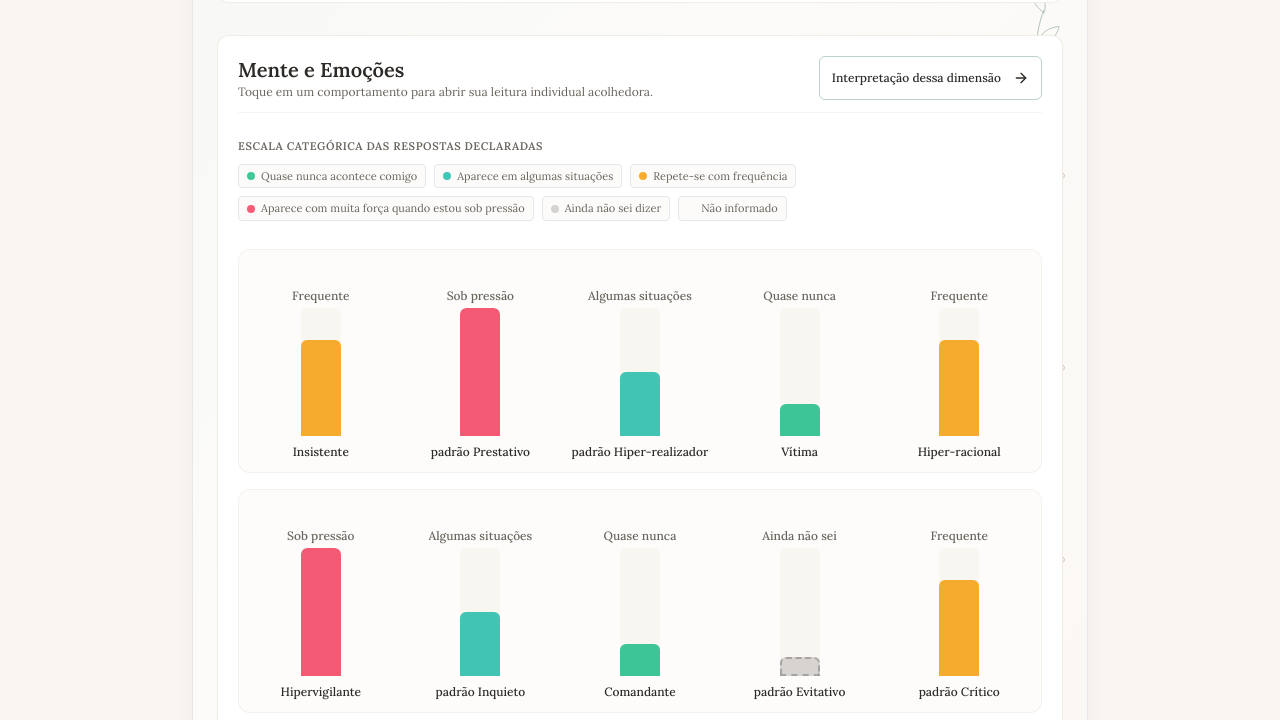
Leitura do funcionamento no mapa › abre a leitura aprofundada no comportamento externo, preservando a conexão com o conjunto
The width and height of the screenshot is (1280, 720).
(page scrolled)
Click the button with aria-label "Prestativo: categoria" at (480, 361), box top-left (407, 258), bottom-right (554, 464)
(page scrolled)
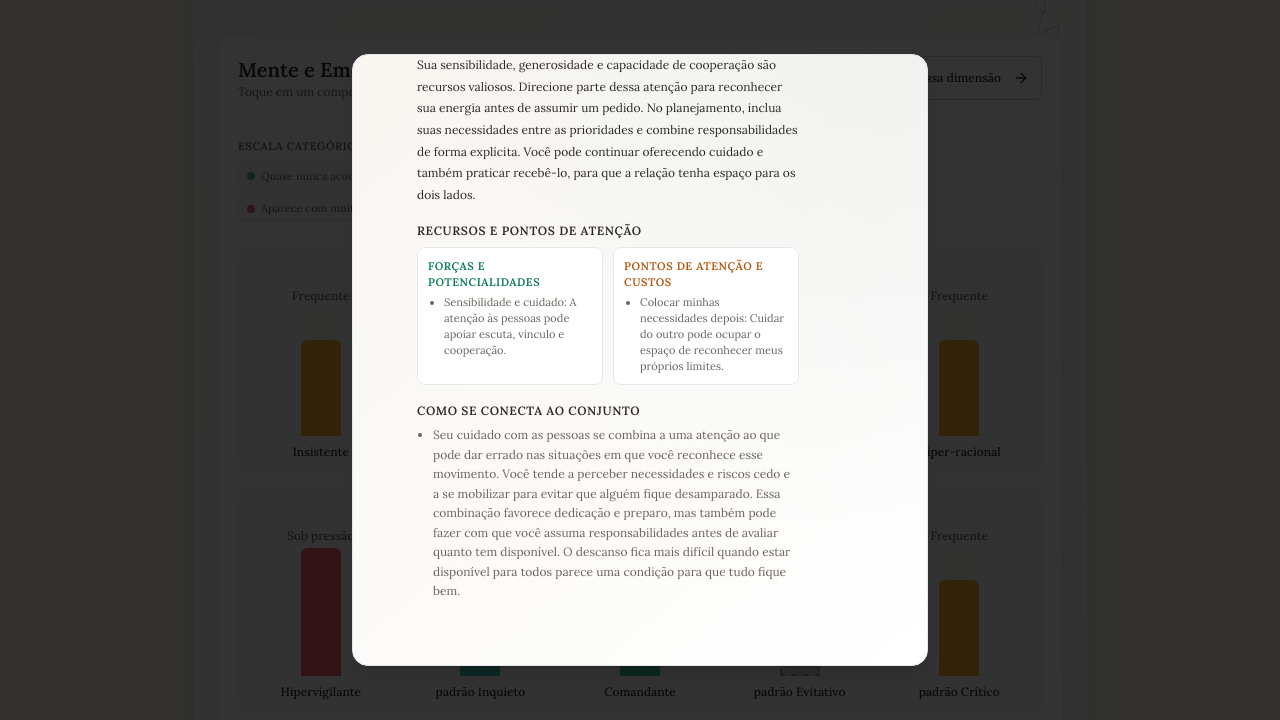
Result: the list item "necessidades e riscos cedo" is shown at top-left (433, 427), bottom-right (790, 598)
